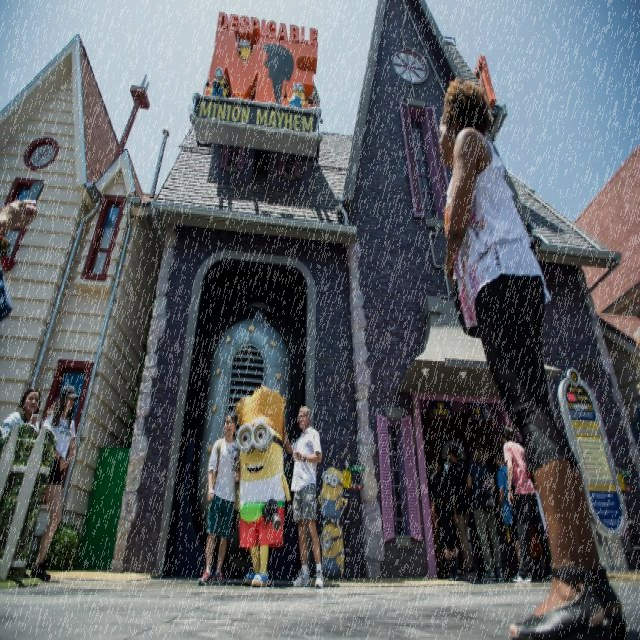pessoa: (436, 72, 630, 638), (233, 383, 296, 586), (28, 383, 82, 584), (200, 31, 319, 121), (500, 422, 554, 584), (195, 409, 243, 586), (280, 403, 324, 589), (463, 436, 505, 582), (443, 440, 480, 584), (0, 187, 38, 324), (428, 446, 466, 581), (317, 462, 350, 580), (496, 448, 524, 580), (521, 443, 544, 577), (0, 386, 42, 443)
